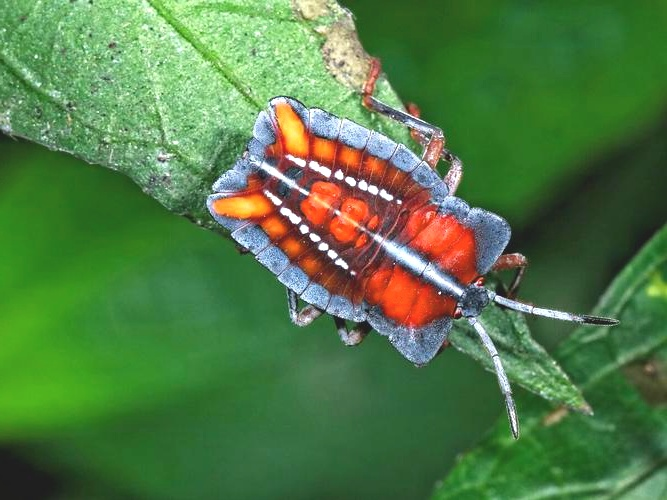Stink_Bug: (247, 112, 490, 351)
